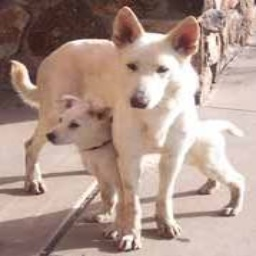dog: (18, 13, 248, 247)
